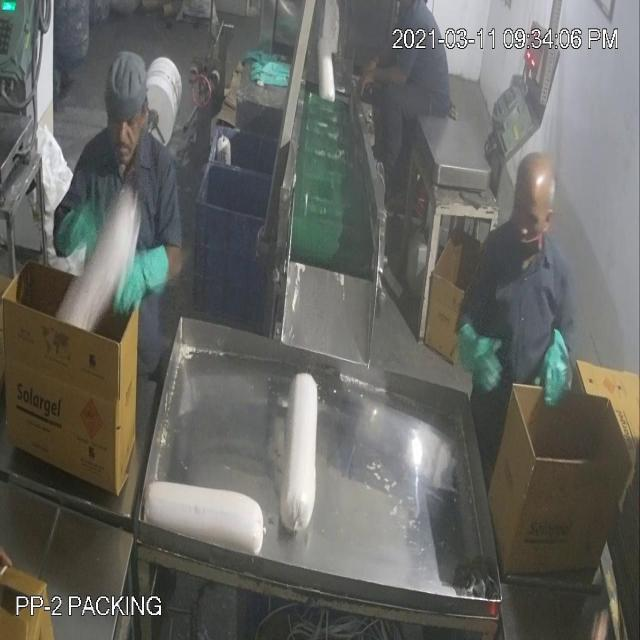No_Gloves: (354, 52, 415, 108)
